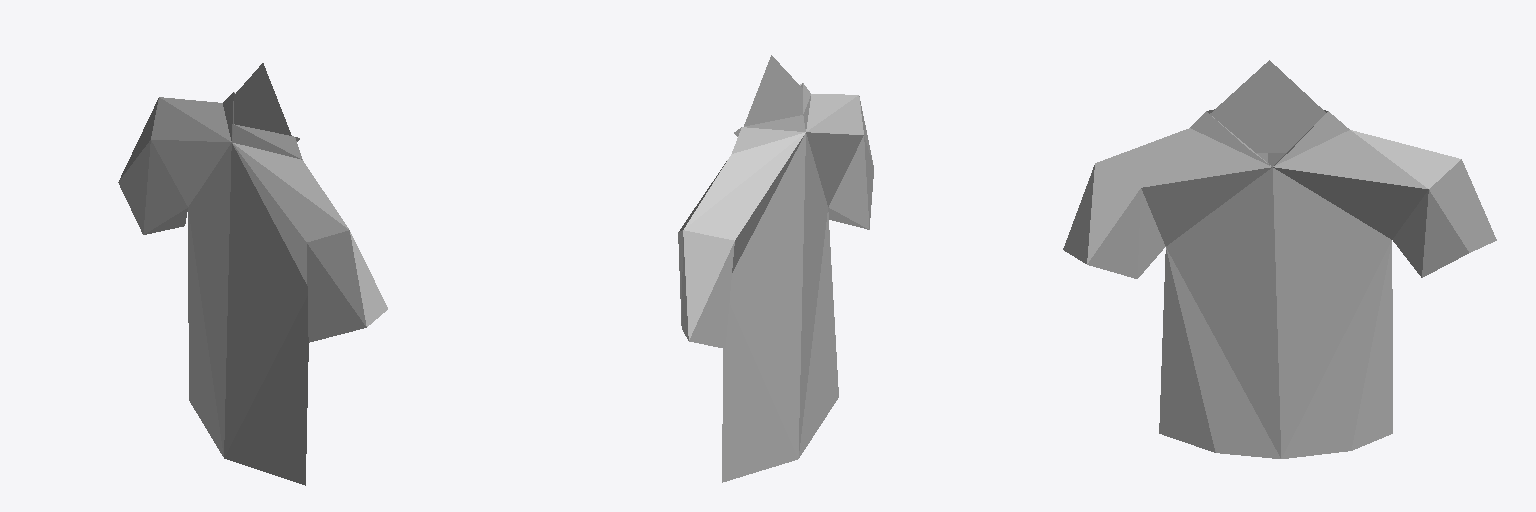
Rendered from hangingshirtgreen.obj.
3 views of the same model, side by side, from view 1: azimuth 30°, elevation 25°; view 2: azimuth 150°, elevation 25°; view 3: azimuth 270°, elevation 25° (orthographic).
Parts seen in each view (by area): view 1: hangingshirtgreen; view 2: hangingshirtgreen; view 3: hangingshirtgreen.
Boxes of the visible parts, <box> form: hangingshirtgreen: <box>118,63,387,485</box>; hangingshirtgreen: <box>678,55,873,482</box>; hangingshirtgreen: <box>1063,60,1496,458</box>.
Size of the model in its own units: 0.1716 by 0.8958 by 0.8947.